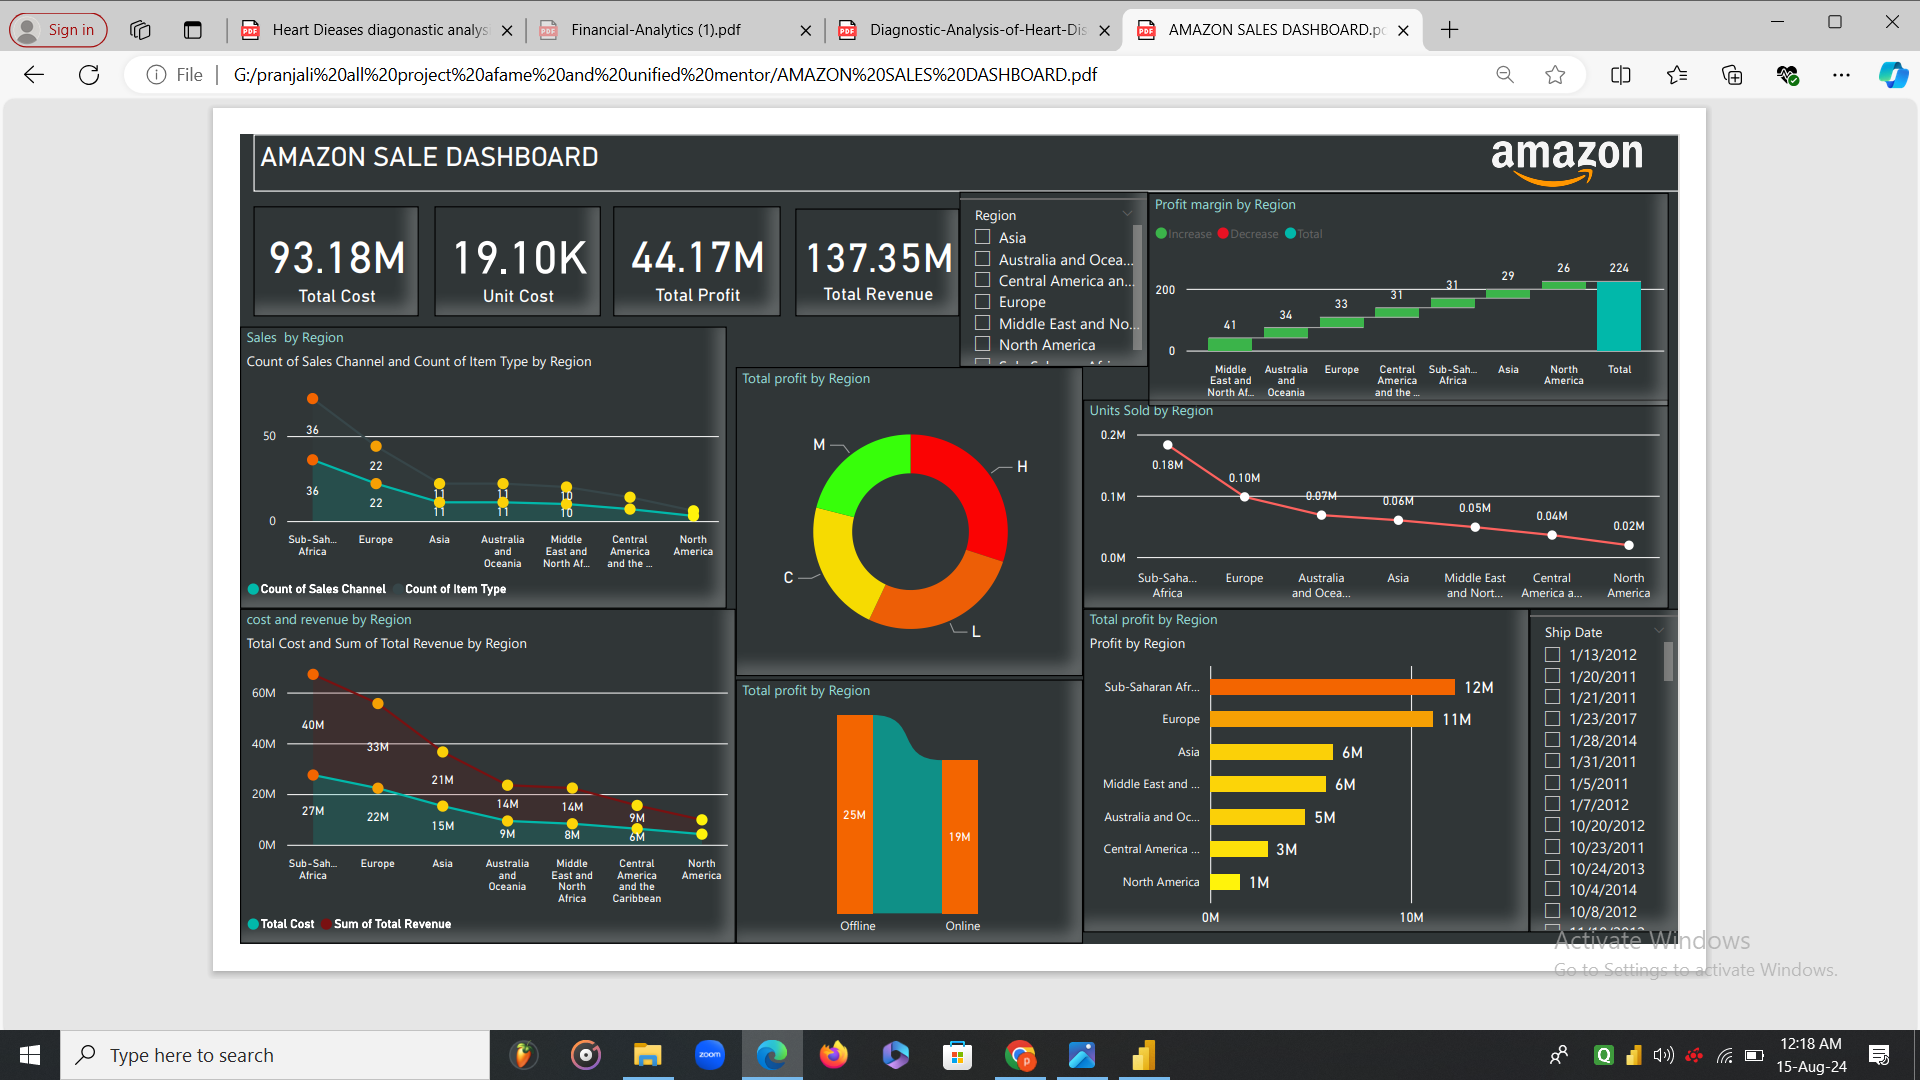

The dashboard page shown, as its layout file describes it:
{"tool":"powerbi","page":{"name":"Page 1","canvas":[1280,720],"ordinal":0},"visuals":[{"type":"textbox","box":[11.9,0,1268.6,51.2],"z":0},{"type":"card","fields":{"Values":["Sum(Amazon Sales data - Amazon Sales data.Total Cost)"]},"box":[12.3,64.4,146.7,97.3],"z":1000},{"type":"card","fields":{"Values":["Sum(Amazon Sales data - Amazon Sales data.Total Profit)"]},"box":[331.8,64.4,149.4,97.3],"z":2000},{"type":"card","fields":{"Values":["Sum(Amazon Sales data - Amazon Sales data.Unit Cost)"]},"box":[172.8,64.4,148.1,97.3],"z":3000},{"type":"card","fields":{"Values":["Sum(Amazon Sales data - Amazon Sales data.Total Revenue)"]},"box":[493.6,65.8,146.7,96],"z":4000},{"type":"image","box":[1088.6,1.4,182.3,49.4],"z":5000},{"type":"barChart","title":"Total profit by Region","fields":{"Category":["Amazon Sales data - Amazon Sales data.Region"],"Y":["Sum(Amazon Sales data - Amazon Sales data.Total Profit)"]},"box":[749.8,422.5,397.5,288],"z":6000},{"type":"lineChart","title":"Units Sold by Region","fields":{"Category":["Amazon Sales data - Amazon Sales data.Region"],"Y":["Sum(Amazon Sales data - Amazon Sales data.Units Sold)"]},"box":[749.8,235.6,521.3,186.8],"z":7000},{"type":"donutChart","title":"Total profit by Region","fields":{"Category":["Amazon Sales data - Amazon Sales data.Order Priority","Amazon Sales data - Amazon Sales data.Region"],"Y":["CountNonNull(Amazon Sales data - Amazon Sales data.Sales Channel)"]},"box":[441.4,207.4,308.7,275],"z":8000},{"type":"stackedAreaChart","title":"cost and revenue by Region","fields":{"Category":["Amazon Sales data - Amazon Sales data.Region"],"Y":["Sum(Amazon Sales data - Amazon Sales data.Total Cost)","Sum(Amazon Sales data - Amazon Sales data.Total Revenue)"]},"box":[0,422.3,441.5,297.5],"z":9000},{"type":"ribbonChart","title":"Total profit by Region","fields":{"Y":["Sum(Amazon Sales data - Amazon Sales data.Total Profit)"],"Category":["Amazon Sales data - Amazon Sales data.Sales Channel"]},"box":[441.5,485.4,308.5,234.4],"z":10000},{"type":"slicer","fields":{"Values":["Amazon Sales data - Amazon Sales data.Ship Date"]},"box":[1147.2,422.5,133.3,288],"z":11000},{"type":"slicer","fields":{"Values":["Amazon Sales data - Amazon Sales data.Region"]},"box":[640.3,50.7,167.3,156.3],"z":12000},{"type":"waterfallChart","title":"Profit margin by Region","fields":{"Category":["Amazon Sales data - Amazon Sales data.Region"],"Y":["Amazon Sales data - Amazon Sales data.Profit Margin"]},"box":[808.1,52.4,462.9,189.2],"z":13000},{"type":"stackedAreaChart","title":"Sales  by Region","fields":{"Category":["Amazon Sales data - Amazon Sales data.Region"],"Y":["CountNonNull(Amazon Sales data - Amazon Sales data.Sales Channel)","CountNonNull(Amazon Sales data - Amazon Sales data.Item Type)"]},"box":[0,171.4,432.7,250.5],"z":14000}]}

Visuals, with their boxes on the page's 1280x720 design canvas (x1, y1, x2, y2). These are canvas units, not pixel positions in the 1920x1080 screenshot, which may show the page scaled, cropped or inside an application window:
textbox: x1=12 y1=0 x2=1280 y2=51
card - Sum(Amazon Sales data - Amazon Sales data.Total Cost): x1=12 y1=64 x2=159 y2=162
card - Sum(Amazon Sales data - Amazon Sales data.Total Profit): x1=332 y1=64 x2=481 y2=162
card - Sum(Amazon Sales data - Amazon Sales data.Unit Cost): x1=173 y1=64 x2=321 y2=162
card - Sum(Amazon Sales data - Amazon Sales data.Total Revenue): x1=494 y1=66 x2=640 y2=162
image: x1=1089 y1=1 x2=1271 y2=51
"Total profit by Region" barChart: x1=750 y1=422 x2=1147 y2=710
"Units Sold by Region" lineChart: x1=750 y1=236 x2=1271 y2=422
"Total profit by Region" donutChart: x1=441 y1=207 x2=750 y2=482
"cost and revenue by Region" stackedAreaChart: x1=0 y1=422 x2=442 y2=720
"Total profit by Region" ribbonChart: x1=442 y1=485 x2=750 y2=720
slicer - Amazon Sales data - Amazon Sales data.Ship Date: x1=1147 y1=422 x2=1280 y2=710
slicer - Amazon Sales data - Amazon Sales data.Region: x1=640 y1=51 x2=808 y2=207
"Profit margin by Region" waterfallChart: x1=808 y1=52 x2=1271 y2=242
"Sales  by Region" stackedAreaChart: x1=0 y1=171 x2=433 y2=422
